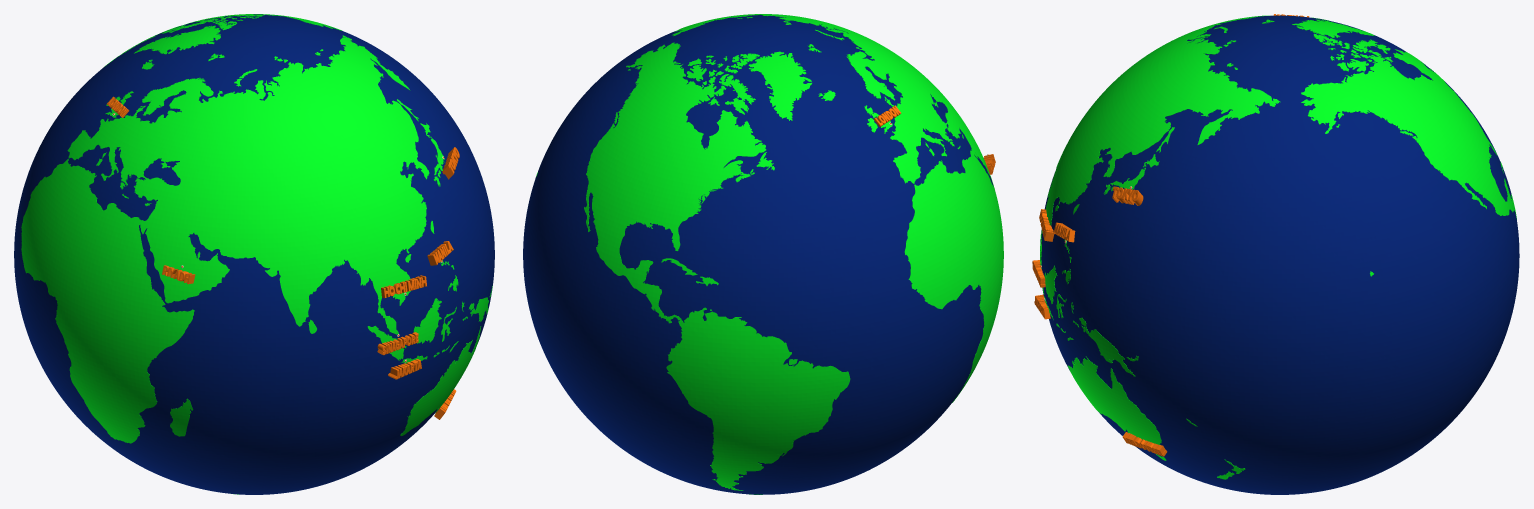
Rendered from globeRiyadh.glb.
3 renders of one model, left to right at view 1: azimuth 30°, elevation 25°; view 2: azimuth 150°, elevation 25°; view 3: azimuth 270°, elevation 25°, orthographic.
Visible parts, largest first — view 1: Object_2, Object_20, Object_16, Object_17, Object_12, Object_13, HochiText; view 2: Object_2, Object_19, Object_20, Object_17, Object_15; view 3: Object_2, Object_20, Object_19, Object_16, Object_14, Object_17, Object_13.
Boxes of the visible parts, left/top/right/bottom form: Object_2: left=14, top=14, right=494, bottom=494; Object_20: left=21, top=35, right=429, bottom=443; Object_16: left=400, top=326, right=481, bottom=435; Object_17: left=134, top=25, right=220, bottom=54; Object_12: left=170, top=14, right=456, bottom=436; Object_13: left=105, top=91, right=444, bottom=343; HochiText: left=381, top=275, right=426, bottom=298; Object_2: left=523, top=15, right=993, bottom=494; Object_19: left=584, top=42, right=850, bottom=488; Object_20: left=672, top=14, right=1003, bottom=402; Object_17: left=748, top=51, right=811, bottom=120; Object_15: left=719, top=74, right=755, bottom=114; Object_2: left=1040, top=15, right=1519, bottom=494; Object_20: left=1040, top=15, right=1280, bottom=265; Object_19: left=1301, top=49, right=1516, bottom=219; Object_16: left=1068, top=356, right=1161, bottom=444; Object_14: left=1079, top=33, right=1342, bottom=376; Object_17: left=1292, top=19, right=1374, bottom=37; Object_13: left=1044, top=167, right=1145, bottom=303.
Size of the model in its own units: 2 by 2 by 2.03.
